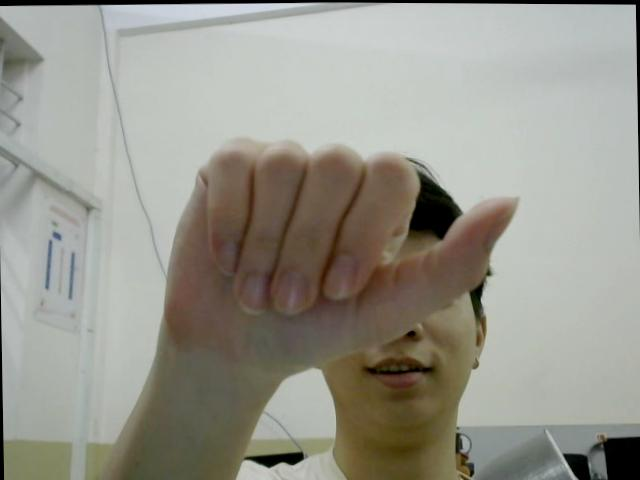A: (158, 132, 529, 358)
